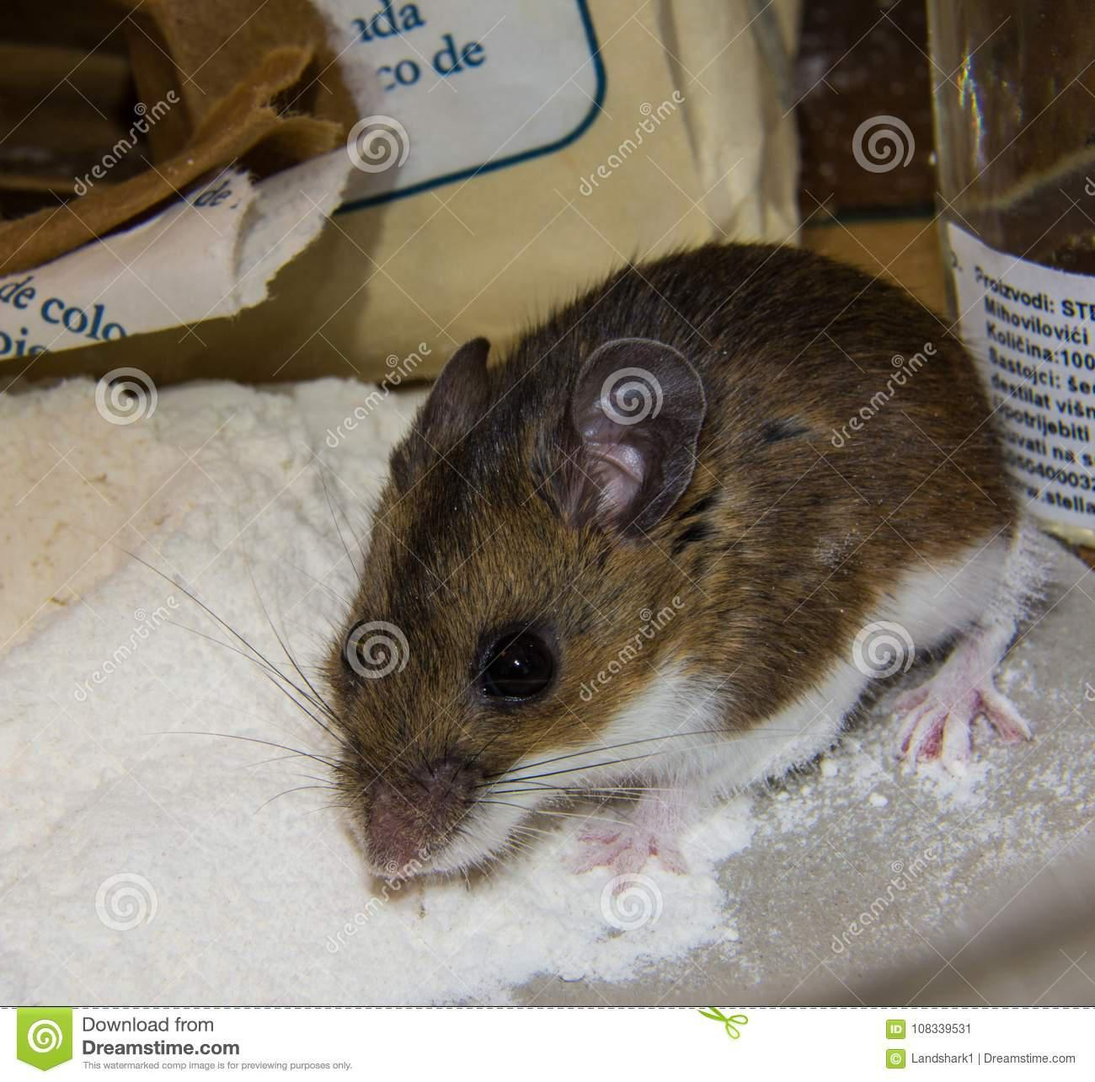rat: (330, 241, 1045, 899)
